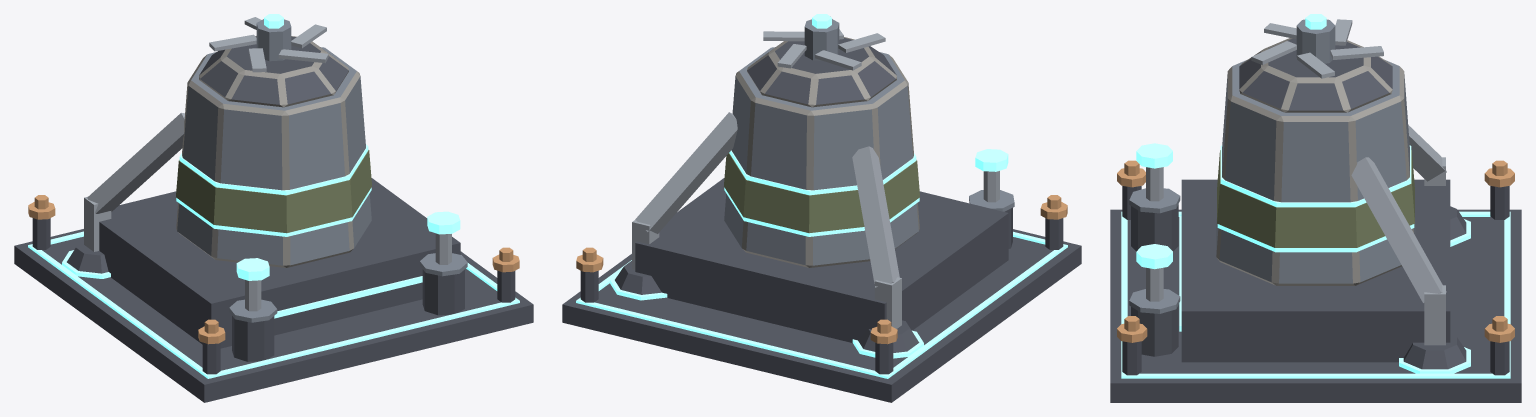
Rendered from coletor_lixo_sem_textura.glb.
3 renders of one model, left to right at view 1: azimuth 30°, elevation 25°; view 2: azimuth 150°, elevation 25°; view 3: azimuth 270°, elevation 25°, orthographic. The views are drawn at different scales.
Parts seen in each view (by area): view 1: coletor_lixo_corpo, coletor_lixo_rotor, coletor_lixo_pistao0, coletor_lixo_pistao1; view 2: coletor_lixo_corpo, coletor_lixo_rotor, coletor_lixo_pistao0; view 3: coletor_lixo_corpo, coletor_lixo_rotor, coletor_lixo_pistao0, coletor_lixo_pistao1.
Boxes of the visible parts, x1,y1,x2,y2 form: coletor_lixo_corpo: (14,36,533,402); coletor_lixo_rotor: (209,14,328,72); coletor_lixo_pistao0: (236,258,269,311); coletor_lixo_pistao1: (427,211,460,264); coletor_lixo_corpo: (562,37,1081,402); coletor_lixo_rotor: (763,14,885,70); coletor_lixo_pistao0: (975,149,1008,202); coletor_lixo_corpo: (1110,38,1521,402); coletor_lixo_rotor: (1251,14,1383,78); coletor_lixo_pistao0: (1136,143,1172,201); coletor_lixo_pistao1: (1136,244,1172,301).
Bounding box in the file's own units: 1.9 × 1.52 × 1.9.
